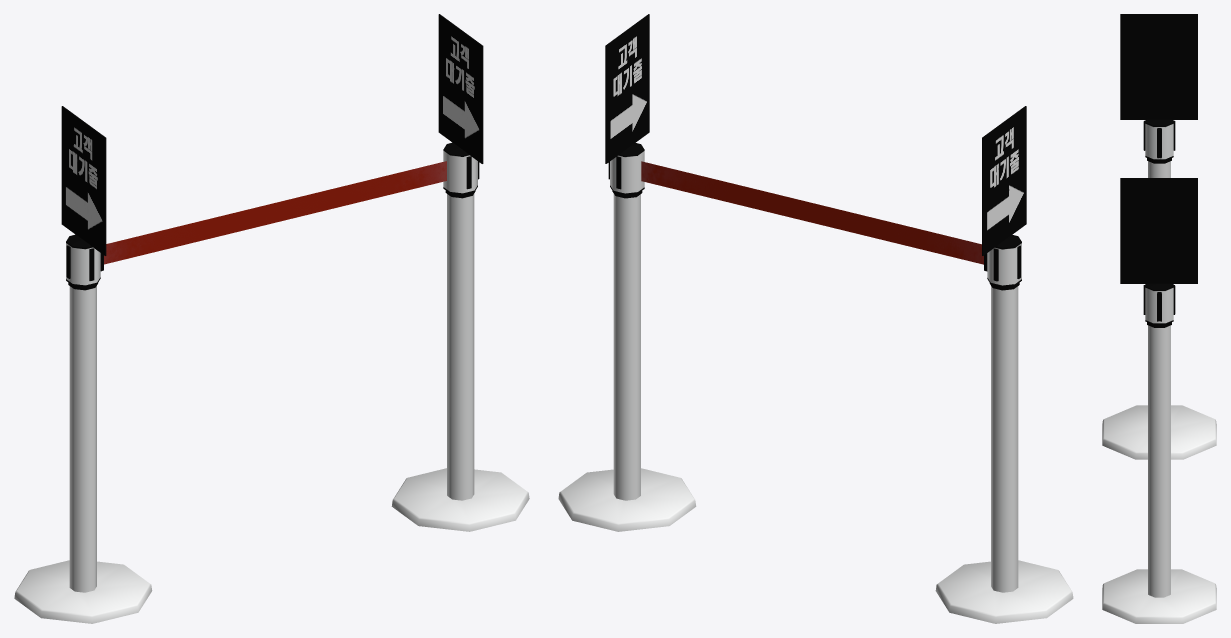
Rendered from LC_3062_rod_LOD1.fbx.
3 views of the same model, side by side, from view 1: azimuth 30°, elevation 25°; view 2: azimuth 150°, elevation 25°; view 3: azimuth 270°, elevation 25° (orthographic). The views are drawn at different scales.
Visible parts, largest first — view 1: LC_3062_rod_LOD1; view 2: LC_3062_rod_LOD1; view 3: LC_3062_rod_LOD1.
Part boxes in pixels (x1,y1,x2,y2): LC_3062_rod_LOD1: [14, 14, 529, 623]; LC_3062_rod_LOD1: [558, 14, 1073, 623]; LC_3062_rod_LOD1: [1102, 14, 1216, 623].
Bounding box in the file's own units: 130 × 120 × 29.56.
1 material, 1 textured.
